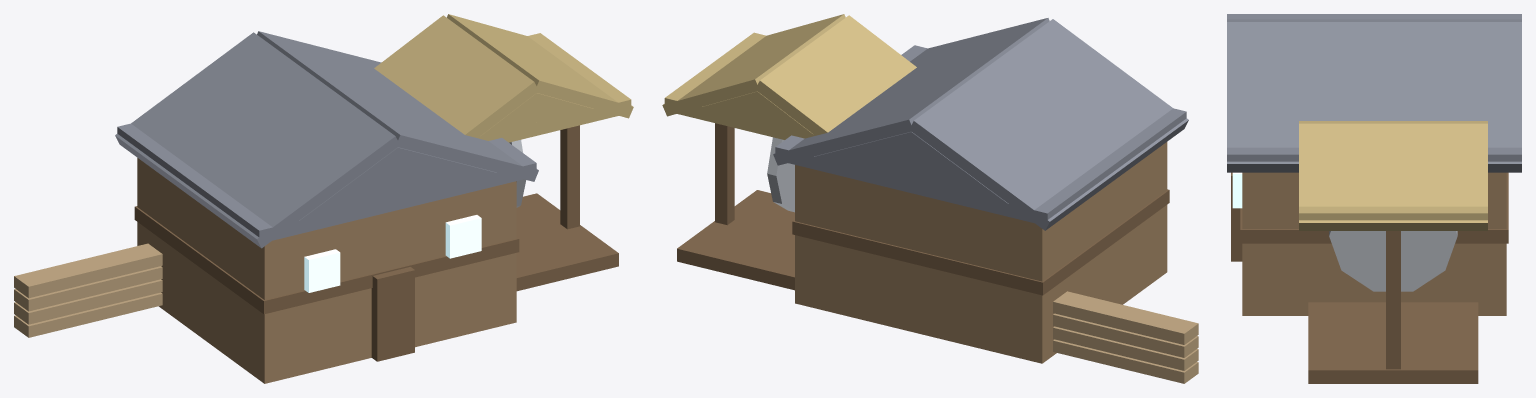
File: sawmill.glb
3 renders of one model, left to right at view 1: azimuth 30°, elevation 25°; view 2: azimuth 150°, elevation 25°; view 3: azimuth 270°, elevation 25°, orthographic. The views are drawn at different scales.
Parts seen in each view (by area): view 1: SawmillWall; view 2: SawmillWall; view 3: SawmillWall.
Boxes of the visible parts, x1,y1,x2,y2 form: SawmillWall: (14,14,633,383); SawmillWall: (662,14,1198,383); SawmillWall: (1227,14,1521,383).
Size of the model in its own units: 3.37 by 1.35 by 1.56.
